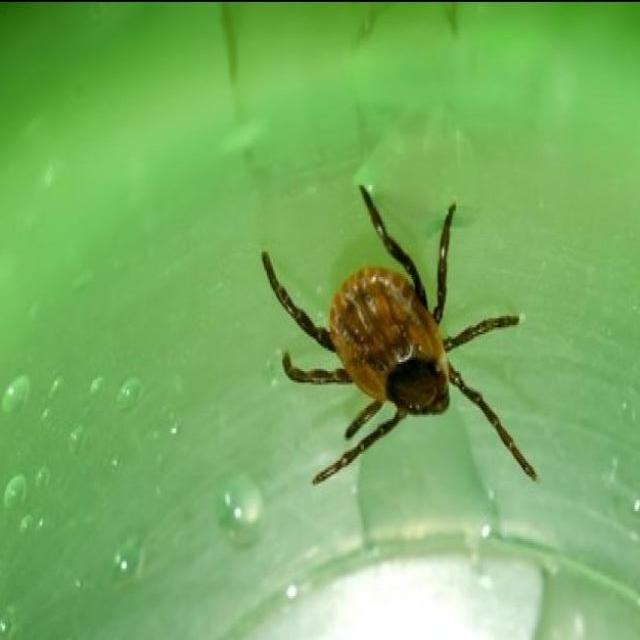Rhipicephalus Sanguineus-F: (261, 183, 536, 482)
